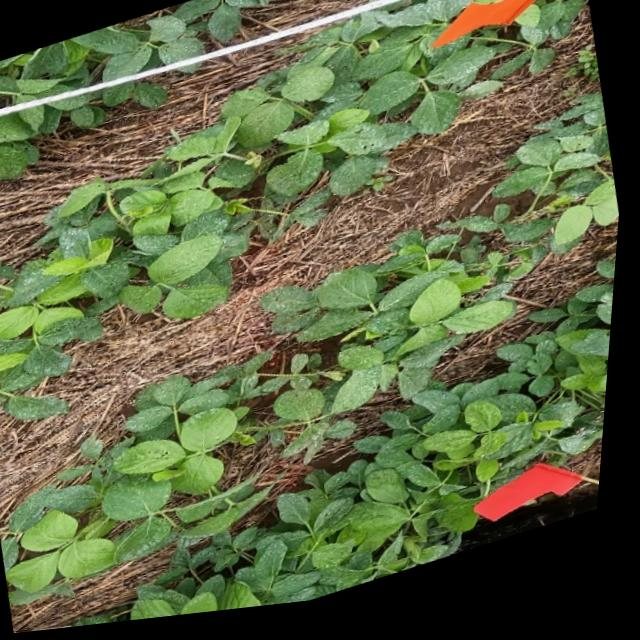caruru_weed: (569, 57, 601, 93)
soy_plant: (9, 105, 623, 629), (0, 0, 588, 420), (0, 0, 271, 101), (0, 84, 162, 179)
